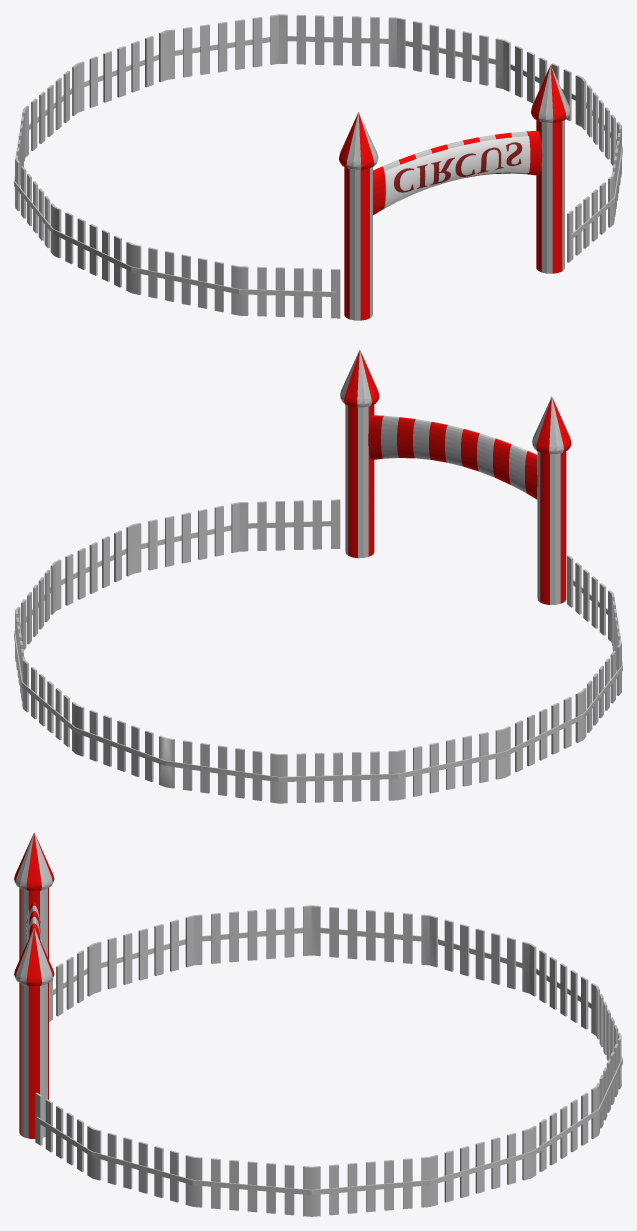
Rendered from cerca.obj.
3 renders of one model, top to bottom at view 1: azimuth 30°, elevation 25°; view 2: azimuth 150°, elevation 25°; view 3: azimuth 270°, elevation 25°, orthographic.
Visible parts, largest first — view 1: Object03, Shape02, sign, Object01; view 2: Object03, Shape02, Object01; view 3: Object03, Shape02, Object01.
Boxes of the visible parts, box(x1,y1,x2,y2) form: Object03: box(15, 14, 621, 318); Shape02: box(339, 65, 570, 320); sign: box(385, 136, 530, 207); Object01: box(14, 36, 622, 296); Object03: box(15, 499, 621, 803); Shape02: box(340, 349, 571, 604); Object01: box(14, 521, 622, 782); Object03: box(35, 905, 621, 1216); Shape02: box(14, 832, 54, 1138); Object01: box(36, 927, 622, 1195).
Size of the model in its own units: 223 by 81.28 by 218.
